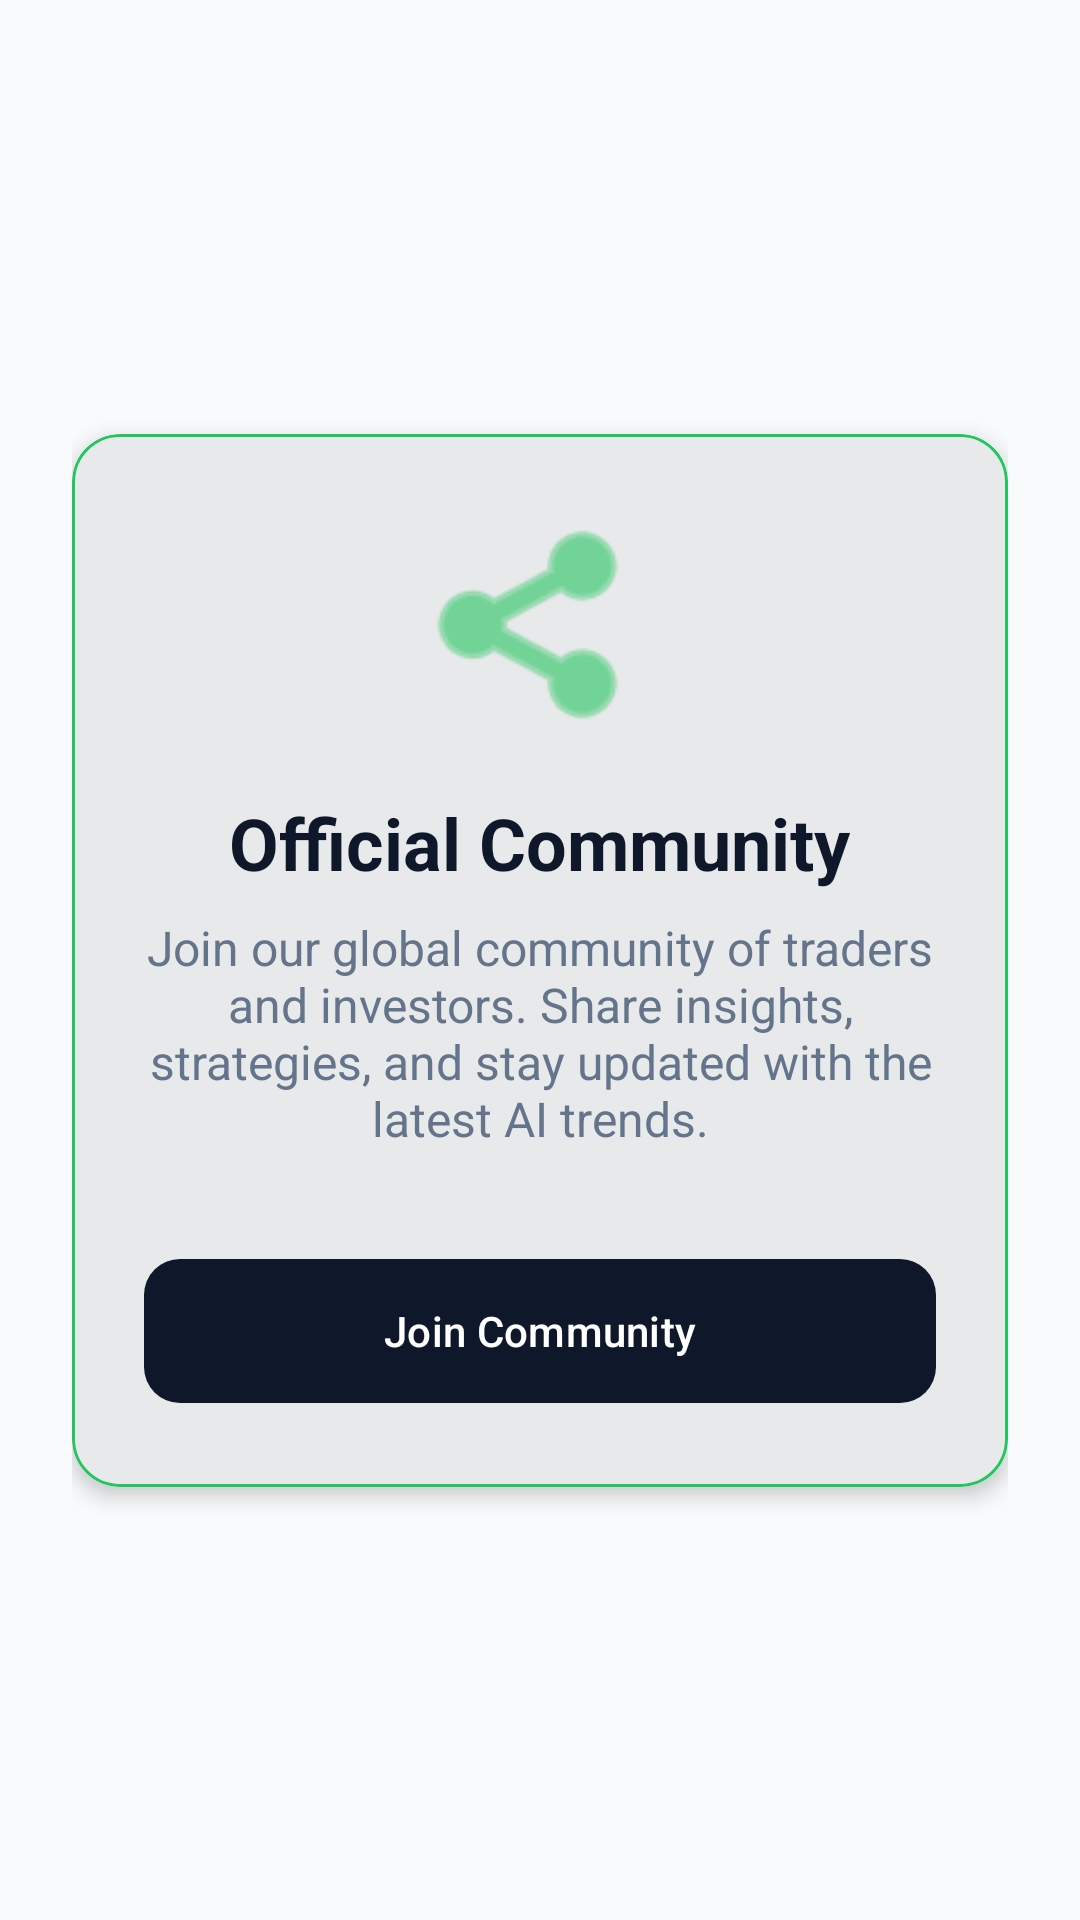

Icon click points for this 1080 x 1920 phone screenshot, format (x=x, y=y):
share: (x=527, y=625)
